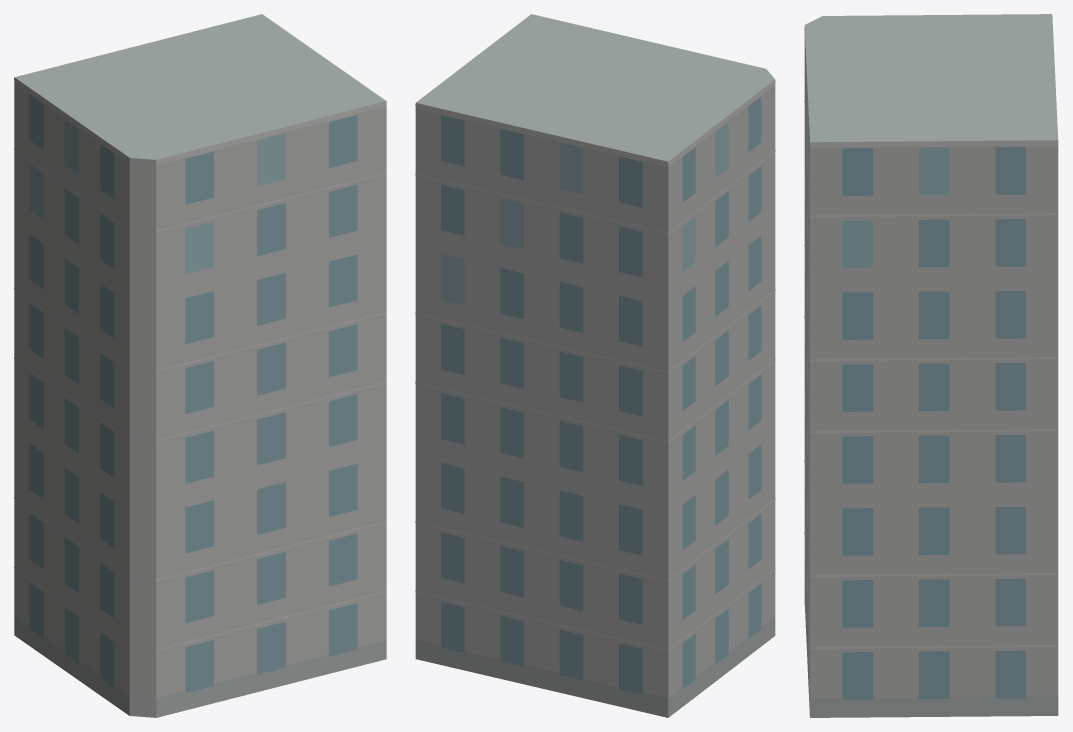
File: survey-upis-32662652.glb
3 views of the same model, side by side, from view 1: azimuth 30°, elevation 25°; view 2: azimuth 150°, elevation 25°; view 3: azimuth 270°, elevation 25° (orthographic). The views are drawn at different scales.
Visible parts, largest first — view 1: survey-upis-32662652.tmp; view 2: survey-upis-32662652.tmp; view 3: survey-upis-32662652.tmp.
Part boxes in pixels (left/top/right/bottom): survey-upis-32662652.tmp: left=14, top=14, right=386, bottom=717; survey-upis-32662652.tmp: left=415, top=14, right=775, bottom=717; survey-upis-32662652.tmp: left=804, top=14, right=1058, bottom=717.
Size of the model in its own units: 11.68 by 24.4 by 9.77.
